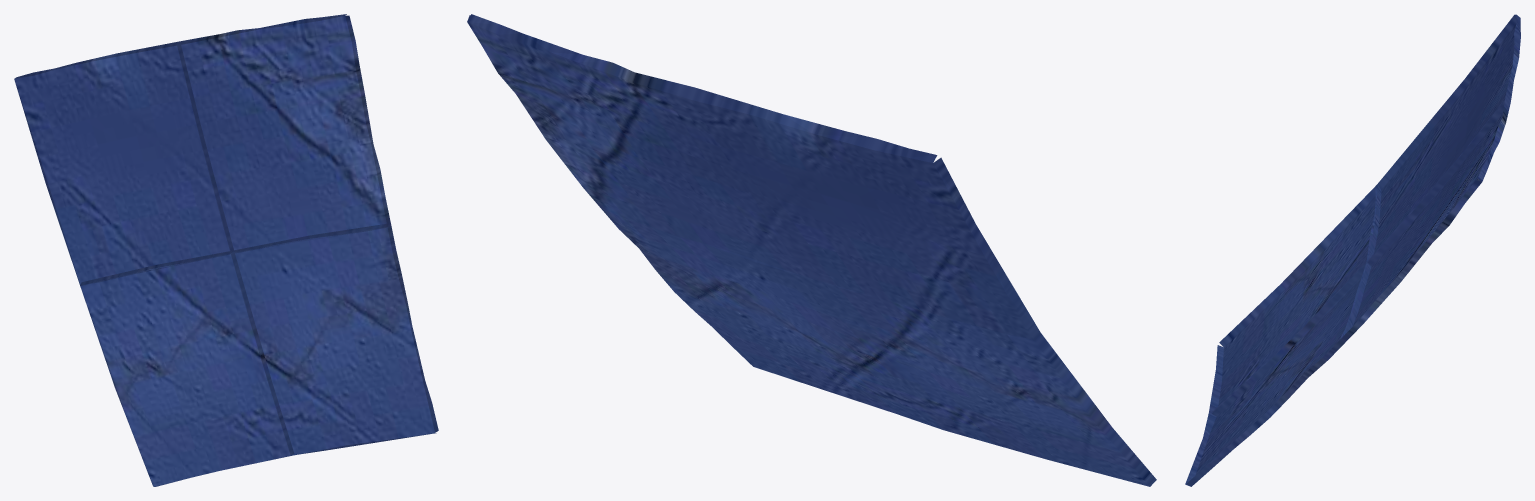
3 renders of one model, left to right at view 1: azimuth 30°, elevation 25°; view 2: azimuth 150°, elevation 25°; view 3: azimuth 270°, elevation 25°, orthographic. The views are drawn at different scales.
Size of the model in its own units: 1049640 by 984619 by 898361.
Materials: 1 (1 with a texture image).
